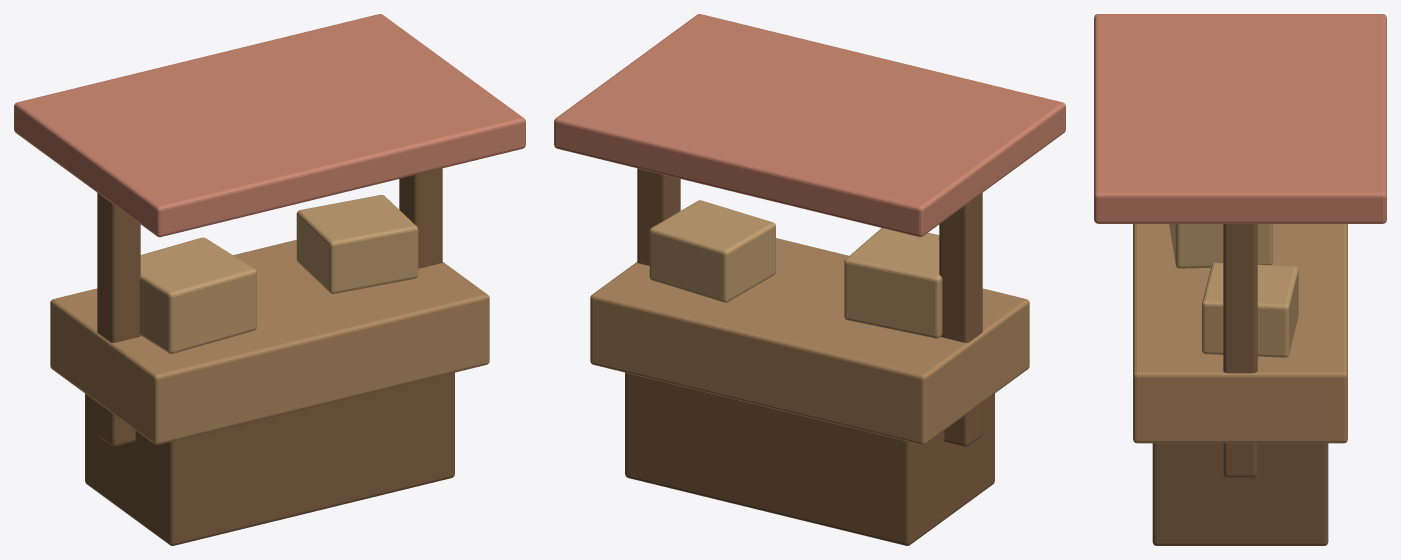
File: woodland-market-stall-01.glb
3 renders of one model, left to right at view 1: azimuth 30°, elevation 25°; view 2: azimuth 150°, elevation 25°; view 3: azimuth 270°, elevation 25°, orthographic.
Visible parts, largest first — view 1: woodland-market-stall-01; view 2: woodland-market-stall-01; view 3: woodland-market-stall-01.
Part boxes in pixels (x1,y1,x2,y2): woodland-market-stall-01: [14, 14, 525, 545]; woodland-market-stall-01: [554, 14, 1065, 545]; woodland-market-stall-01: [1094, 14, 1386, 545].
Size of the model in its own units: 0.44 by 0.4225 by 0.3.
